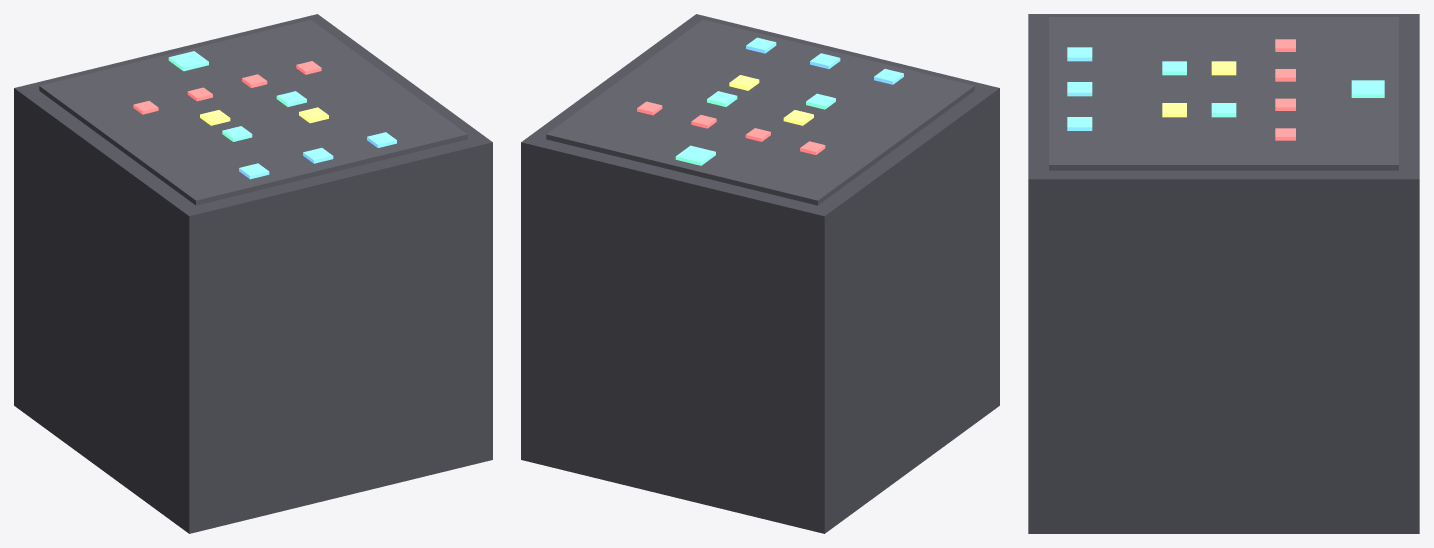
The model's file is computer.glb.
3 renders of one model, left to right at view 1: azimuth 30°, elevation 25°; view 2: azimuth 150°, elevation 25°; view 3: azimuth 270°, elevation 25°, orthographic. The views are drawn at different scales.
Visible parts, largest first — view 1: Computer; view 2: Computer; view 3: Computer, power_led.
Boxes of the visible parts, bbox=[...] form: Computer: bbox=[14, 14, 492, 533]; Computer: bbox=[521, 14, 999, 533]; Computer: bbox=[1028, 14, 1419, 533]; power_led: bbox=[1351, 80, 1384, 97].
Size of the model in its own units: 0.95 by 1 by 0.95.
